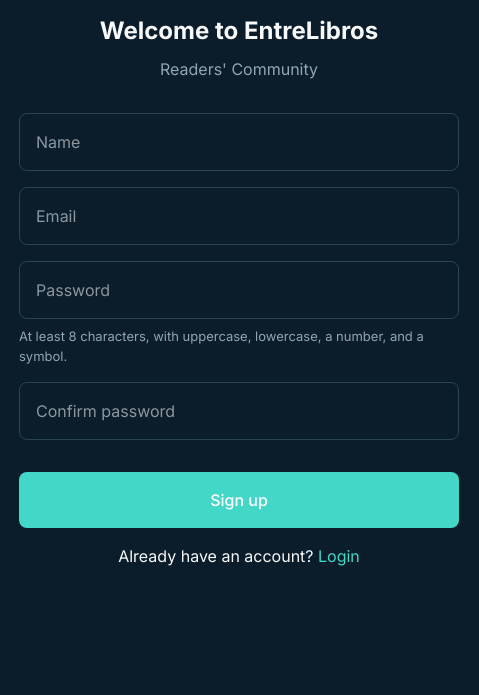
Test: RegisterForm › renders the registration form and validation copy in English
expect the heading "Welcome to EntreLibros" is shown: met, box [100, 16, 378, 45]
expect the field with placeholder "Name" is shown: met, box [19, 113, 459, 171]
Click the button "Sign up" at (239, 500), box [19, 472, 459, 528]
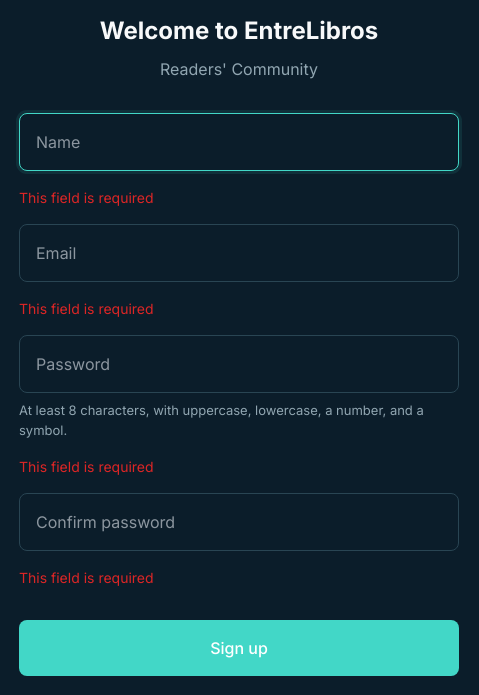
expect the text "This field is required" is shown 4 times: met, box [19, 189, 154, 206]; [19, 300, 154, 317]; [19, 458, 154, 475]; [19, 569, 154, 586]
